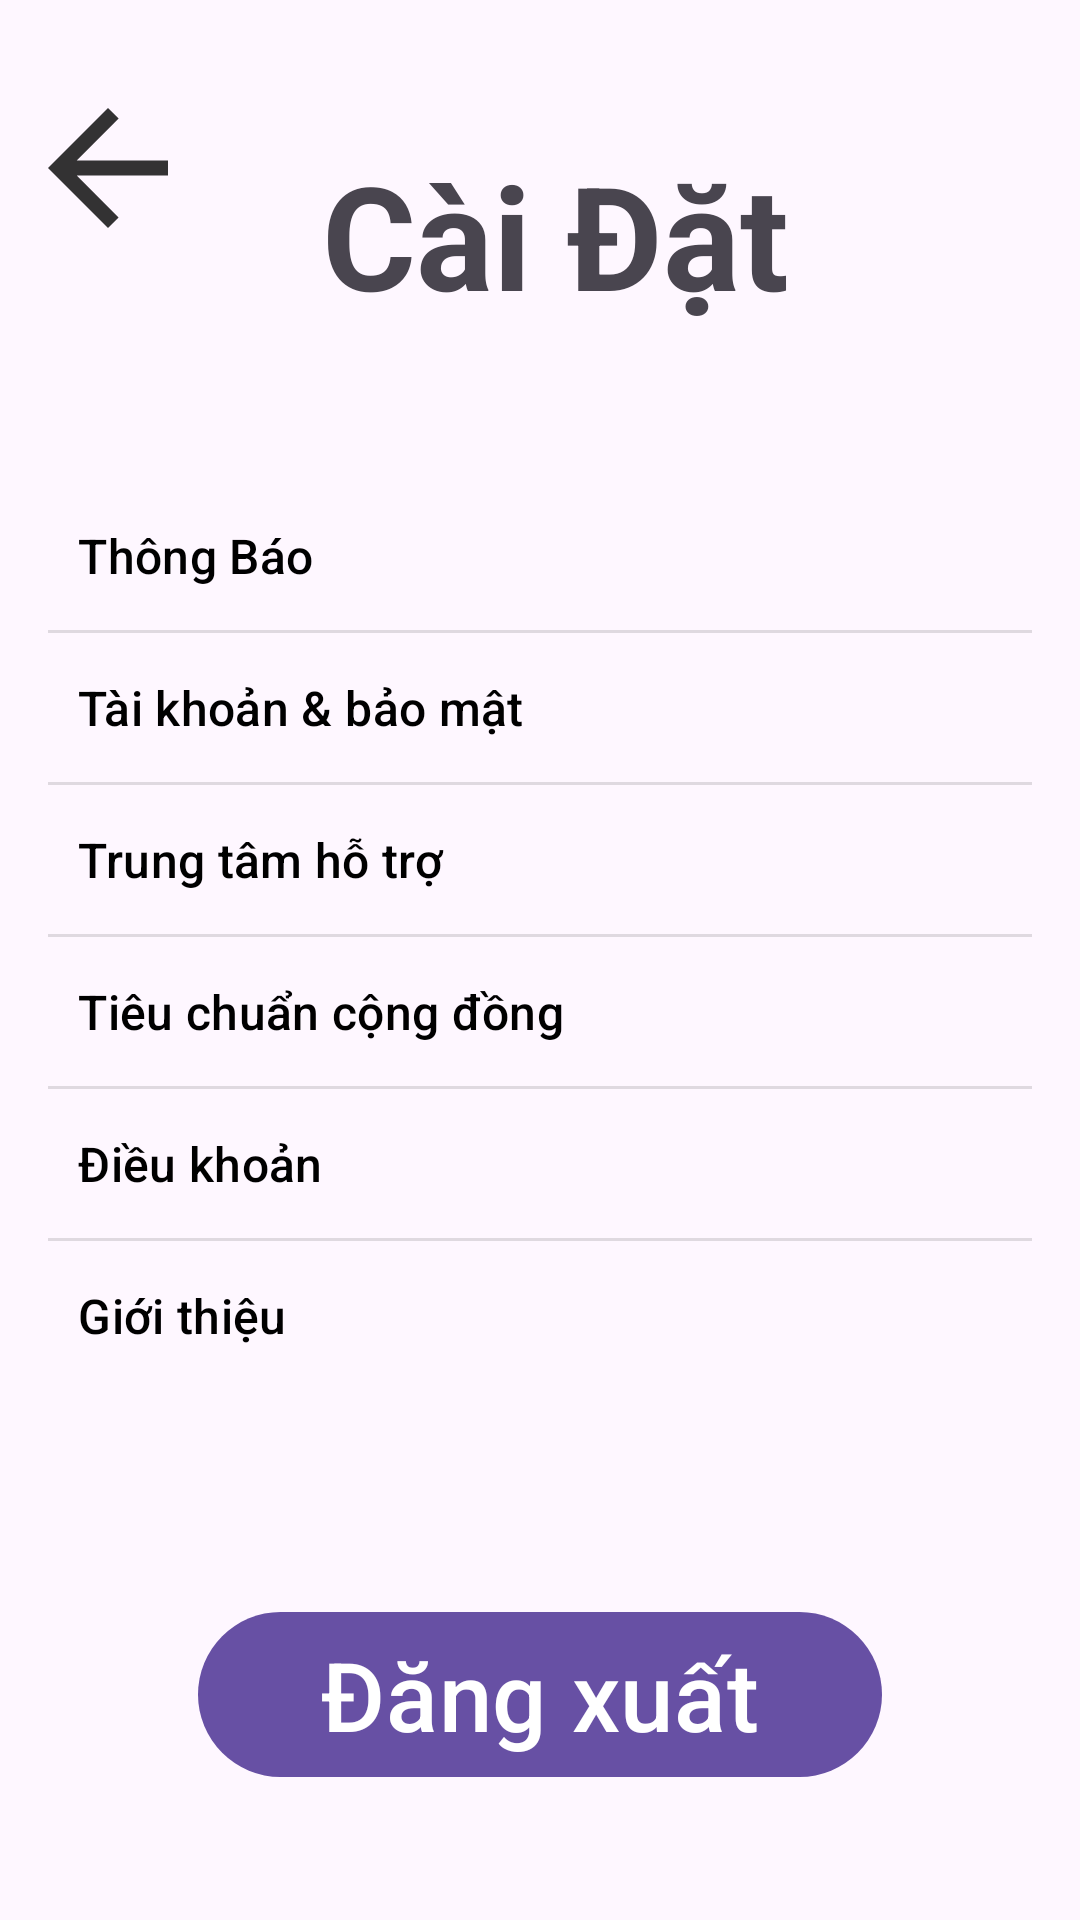

Screen size 1080px x 1920px. Icon name, then its box in pixels as box=[x1, y1, x2, y2]:
arrowback: box=[48, 108, 168, 228]
